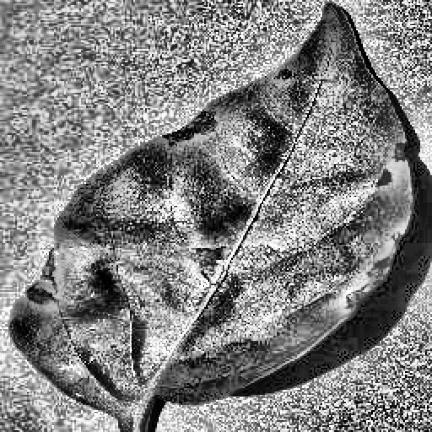leaf: (10, 3, 415, 430)
